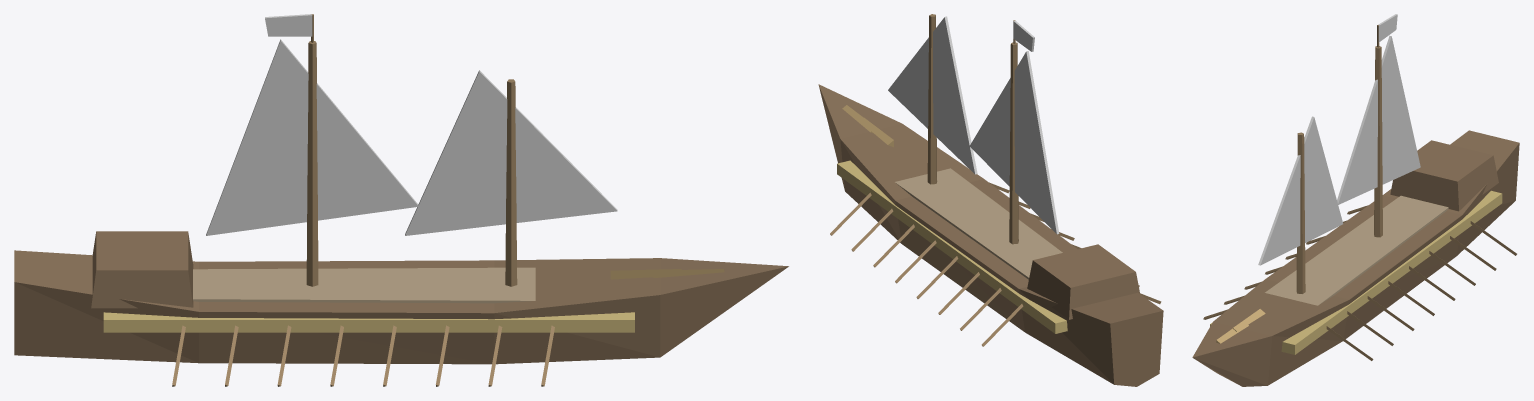
Rendered from great-galleass.glb.
3 views of the same model, side by side, from view 1: azimuth 30°, elevation 25°; view 2: azimuth 150°, elevation 25°; view 3: azimuth 270°, elevation 25° (orthographic). The views are drawn at different scales.
Visible parts, largest first — view 1: LOD0; view 2: LOD0; view 3: LOD0.
Part boxes in pixels (box(x1,y1,x2,y2)): LOD0: box(14, 14, 788, 386); LOD0: box(818, 14, 1163, 386); LOD0: box(1192, 14, 1519, 386).
Size of what is drawn, in the model's own units: 2.43 by 1.31 by 1.48.
